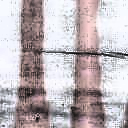crackTip: (28, 47, 128, 62)
